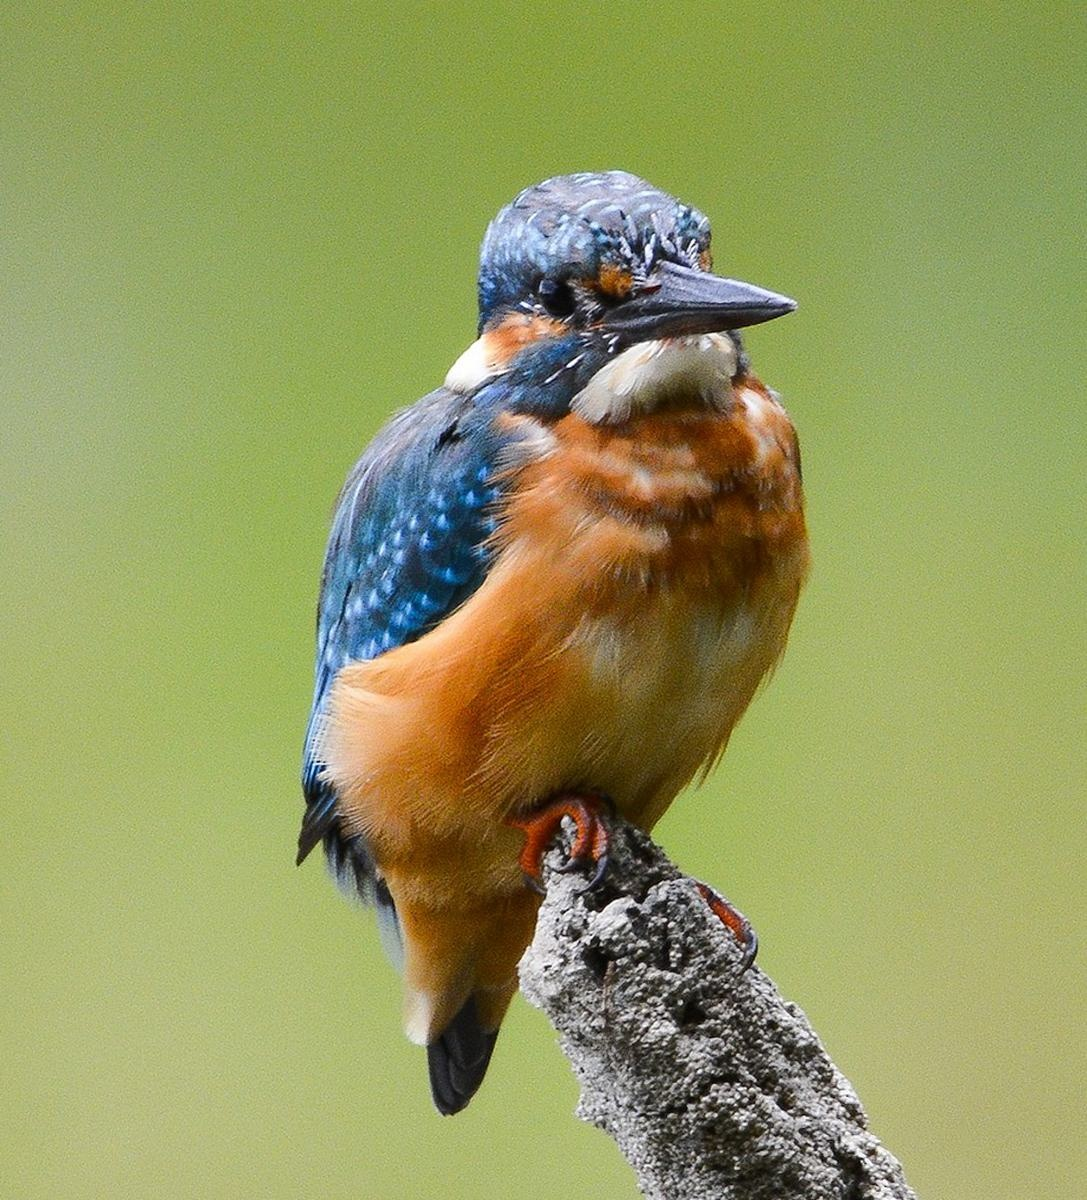kingfisher: (246, 149, 808, 1104)
